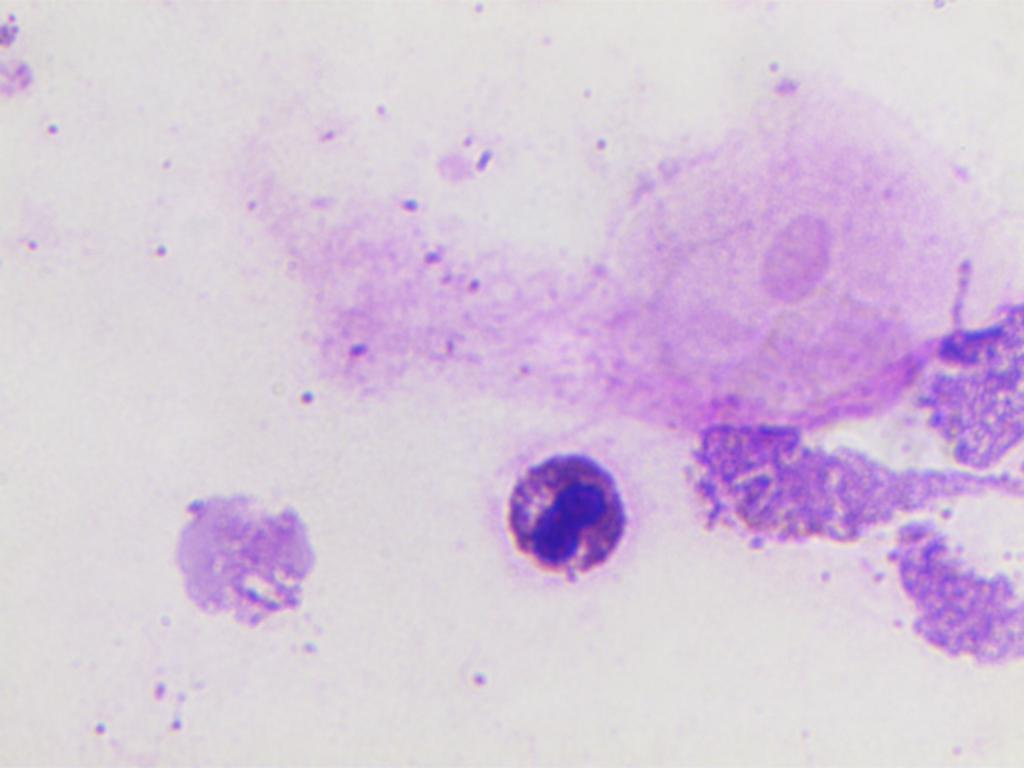artifact: (687, 422, 1024, 534), (882, 510, 1024, 668), (173, 484, 322, 616), (926, 293, 1024, 463)
eosinophil: (468, 432, 636, 608)
epithelial: (746, 206, 838, 303)
